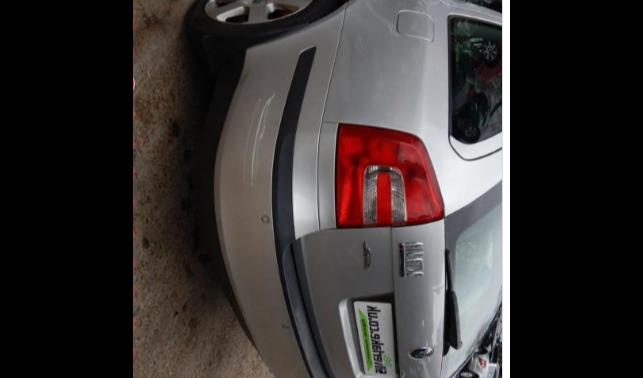Dent: (352, 34, 366, 50)
Paint chip: (363, 0, 400, 36)
Scratch: (240, 90, 276, 188)
